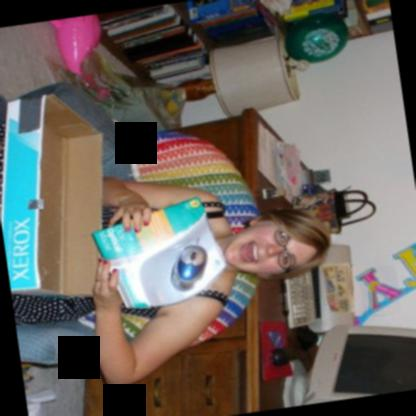handbag: (292, 188, 375, 233)
